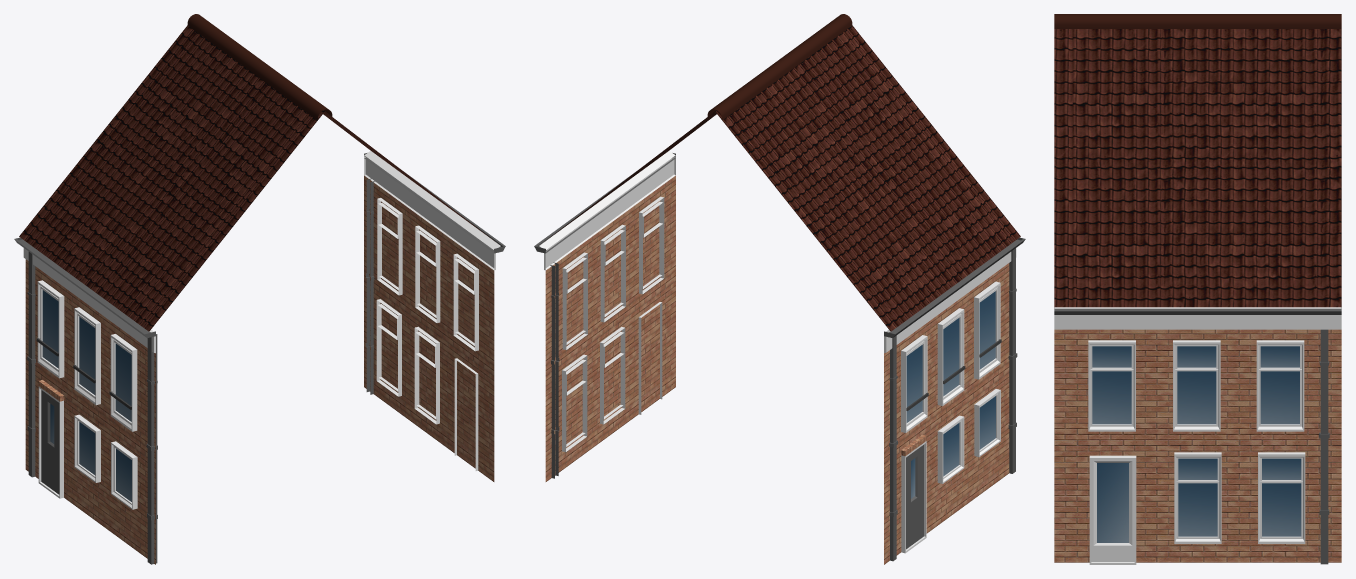
Rendered from It_Uleboerd_5.fbx.
3 renders of one model, left to right at view 1: azimuth 30°, elevation 25°; view 2: azimuth 150°, elevation 25°; view 3: azimuth 270°, elevation 25°, orthographic. The views are drawn at different scales.
Parts seen in each view (by area): view 1: It_Uleboerd_5; view 2: It_Uleboerd_5; view 3: It_Uleboerd_5.
Part boxes in pixels (x1,y1,x2,y2): It_Uleboerd_5: (14,14,505,564); It_Uleboerd_5: (534,14,1025,564); It_Uleboerd_5: (1054,14,1341,564).
Size of the model in its own units: 929 by 1018 by 580.
